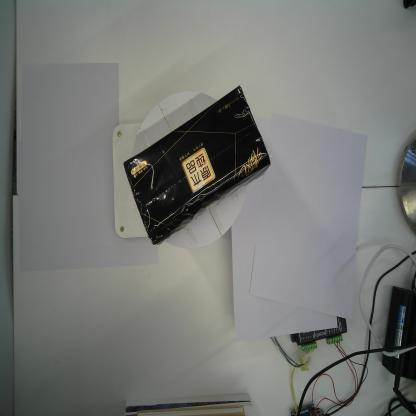Tissue: (123, 85, 271, 247)
